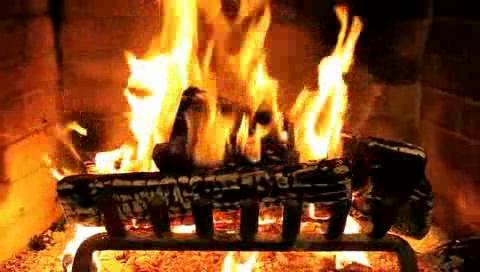fire: (102, 15, 360, 197)
